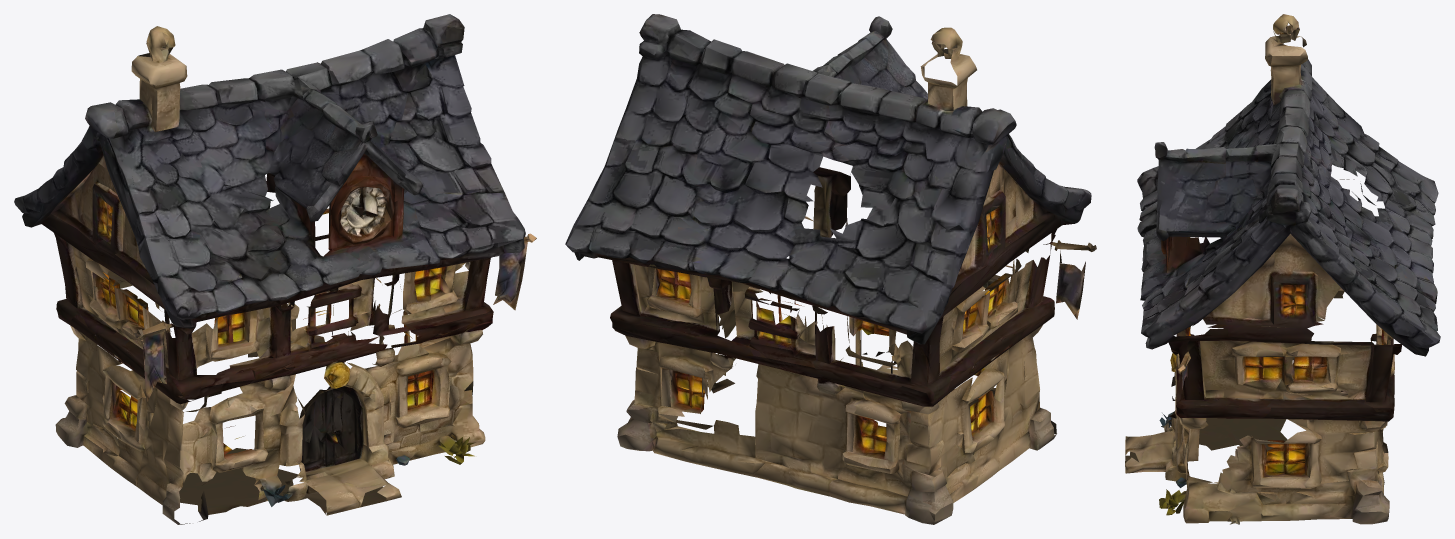
File: tripo-banco-predio154.glb
The picture shows the model from 3 angles, left to right: view 1: azimuth 30°, elevation 25°; view 2: azimuth 150°, elevation 25°; view 3: azimuth 270°, elevation 25°; orthographic projection. The views are drawn at different scales.
Parts seen in each view (by area): view 1: tripo_node_66e86d51-1ef6-4237-ba68-c55bc59d0e76; view 2: tripo_node_66e86d51-1ef6-4237-ba68-c55bc59d0e76; view 3: tripo_node_66e86d51-1ef6-4237-ba68-c55bc59d0e76.
Boxes of the visible parts, x1,y1,x2,y2 form: tripo_node_66e86d51-1ef6-4237-ba68-c55bc59d0e76: [14, 14, 536, 524]; tripo_node_66e86d51-1ef6-4237-ba68-c55bc59d0e76: [565, 14, 1096, 524]; tripo_node_66e86d51-1ef6-4237-ba68-c55bc59d0e76: [1125, 14, 1440, 524].
Bounding box in the file's own units: 0.9361 × 0.9767 × 0.7115.
Materials: 1 (1 with a texture image).
